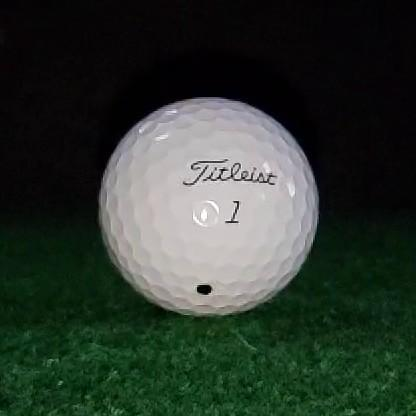golfball: (100, 97, 319, 316)
